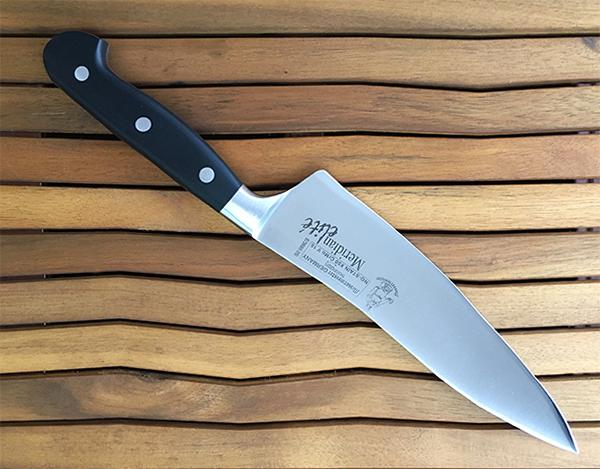knife: (44, 27, 580, 456)
